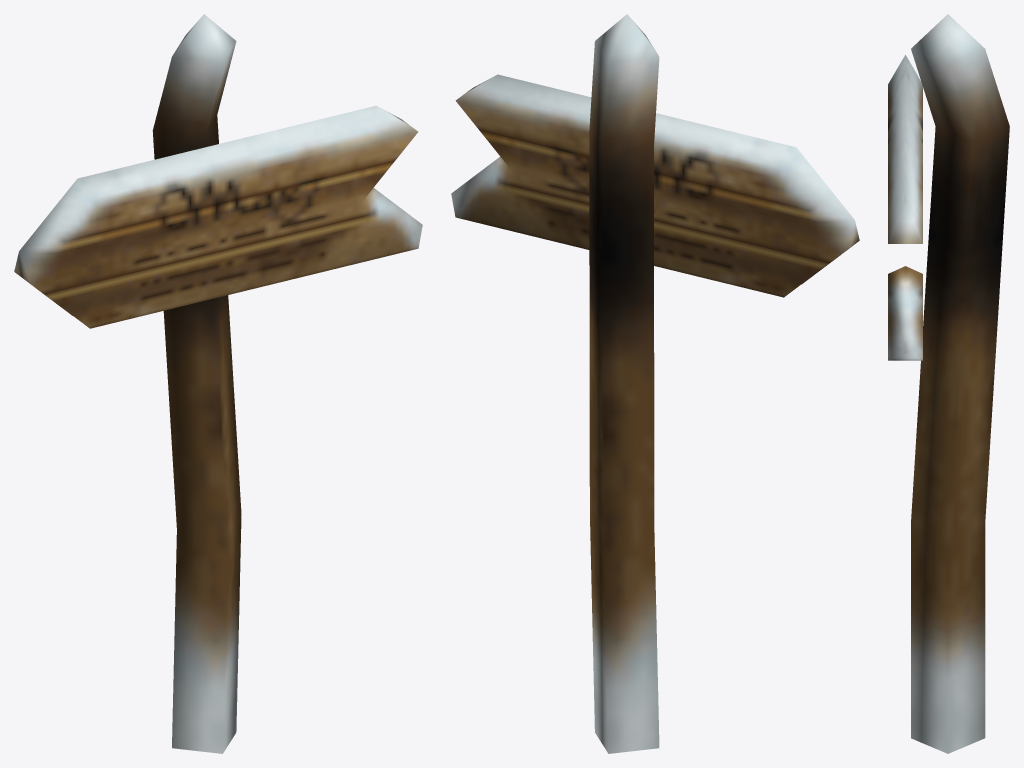
3 views of the same model, side by side, from view 1: azimuth 30°, elevation 25°; view 2: azimuth 150°, elevation 25°; view 3: azimuth 270°, elevation 25° (orthographic).
Parts seen in each view (by area): view 1: a60; view 2: a60; view 3: a60.
Part boxes in pixels (box(x1,y1,x2,y2)): a60: box(14, 14, 422, 753); a60: box(451, 14, 859, 753); a60: box(888, 14, 1009, 753).
Size of the model in its own units: 261 by 449 by 68.43.
